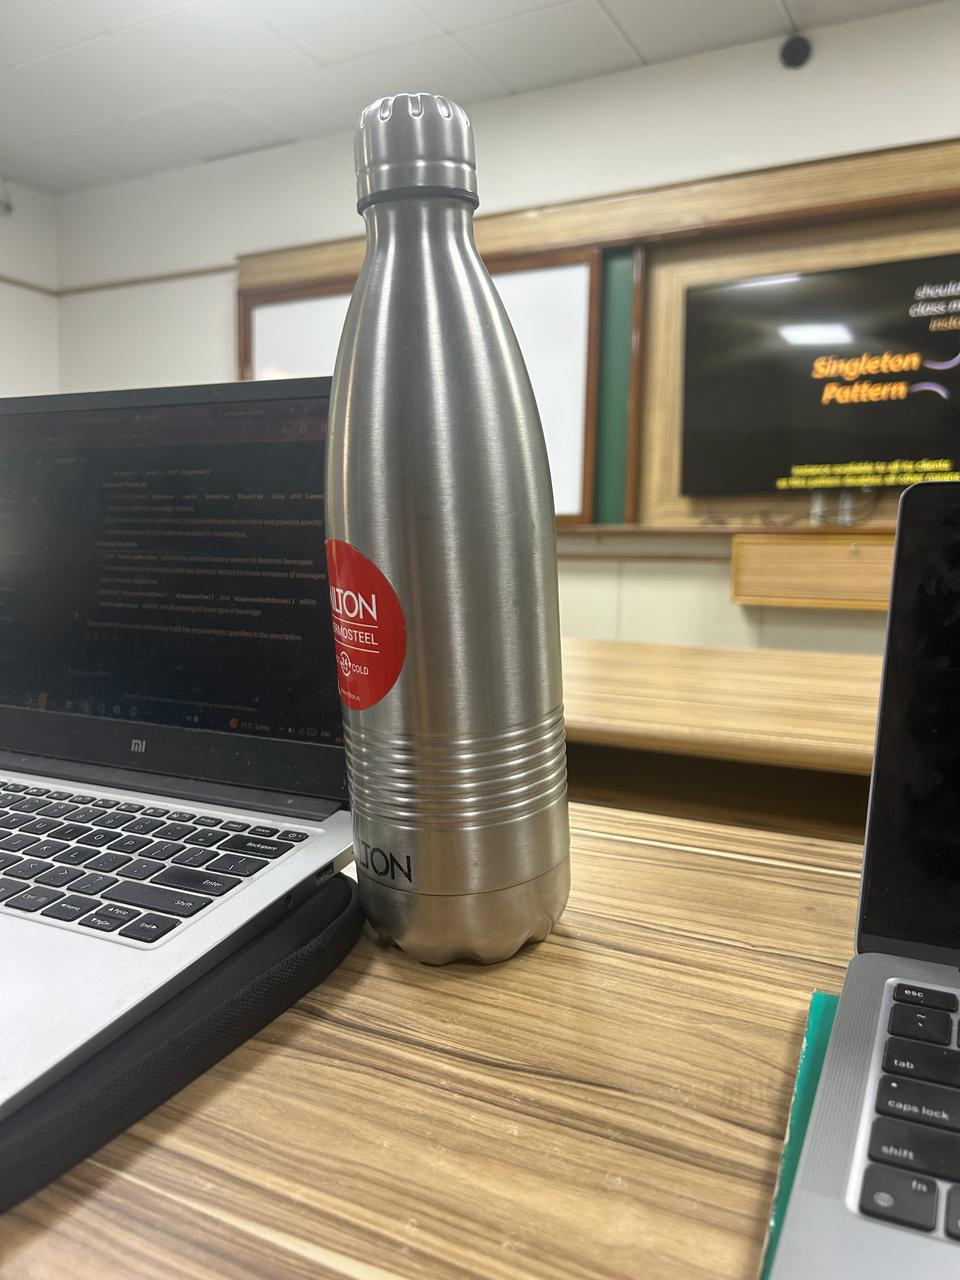bottle: (310, 85, 599, 972)
